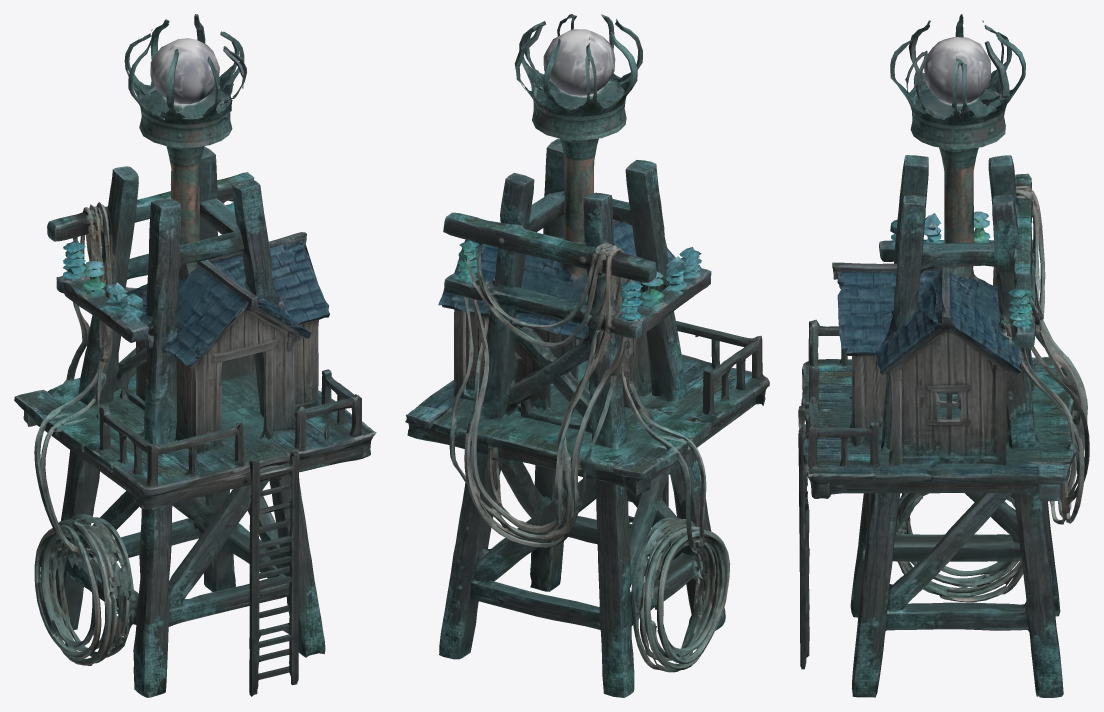
File: rod_station_v1.glb
3 views of the same model, side by side, from view 1: azimuth 30°, elevation 25°; view 2: azimuth 150°, elevation 25°; view 3: azimuth 270°, elevation 25° (orthographic). The views are drawn at different scales.
Parts seen in each view (by area): view 1: Mesh_0; view 2: Mesh_0; view 3: Mesh_0.
Boxes of the visible parts, box(x1,y1,x2,y2) form: Mesh_0: box(14, 14, 376, 697); Mesh_0: box(405, 14, 769, 697); Mesh_0: box(798, 14, 1089, 697).
Bounding box in the file's own units: 0.827 × 1.89 × 0.7981.
Materials: 1 (1 with a texture image).
